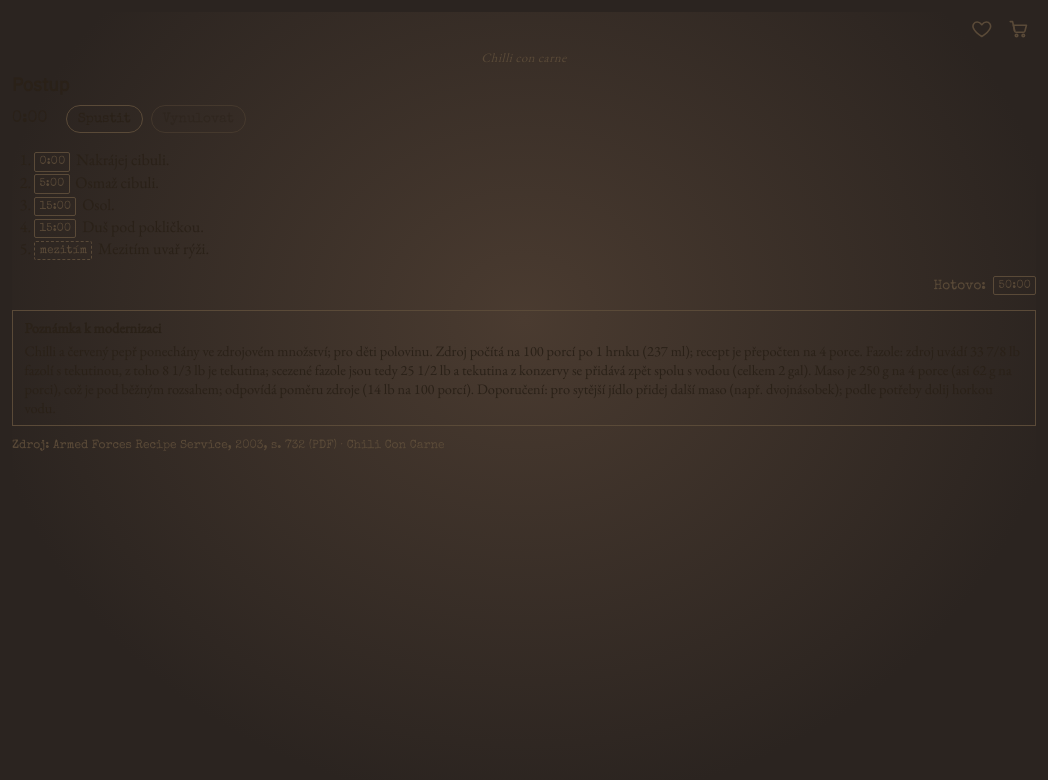
Stopky nad postupem (R3) › Pauza zastaví čas, Spustit pokračuje, Vynulovat vrátí 0:00 bez zvýraznění
Step 1. Click the button "Spustit" → [104, 119], box [66,105,142,134]
Wait 30000 ms
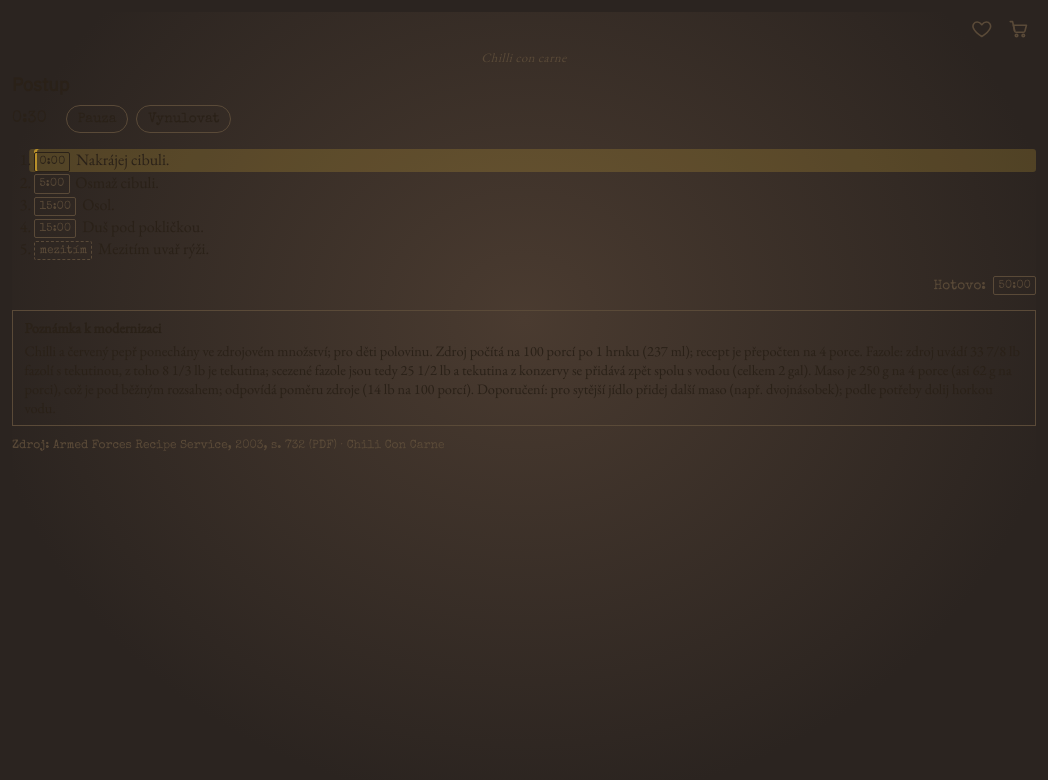
Step 2. Click the button "Pauza" → [97, 119], box [66,105,128,134]
Wait 60000 ms
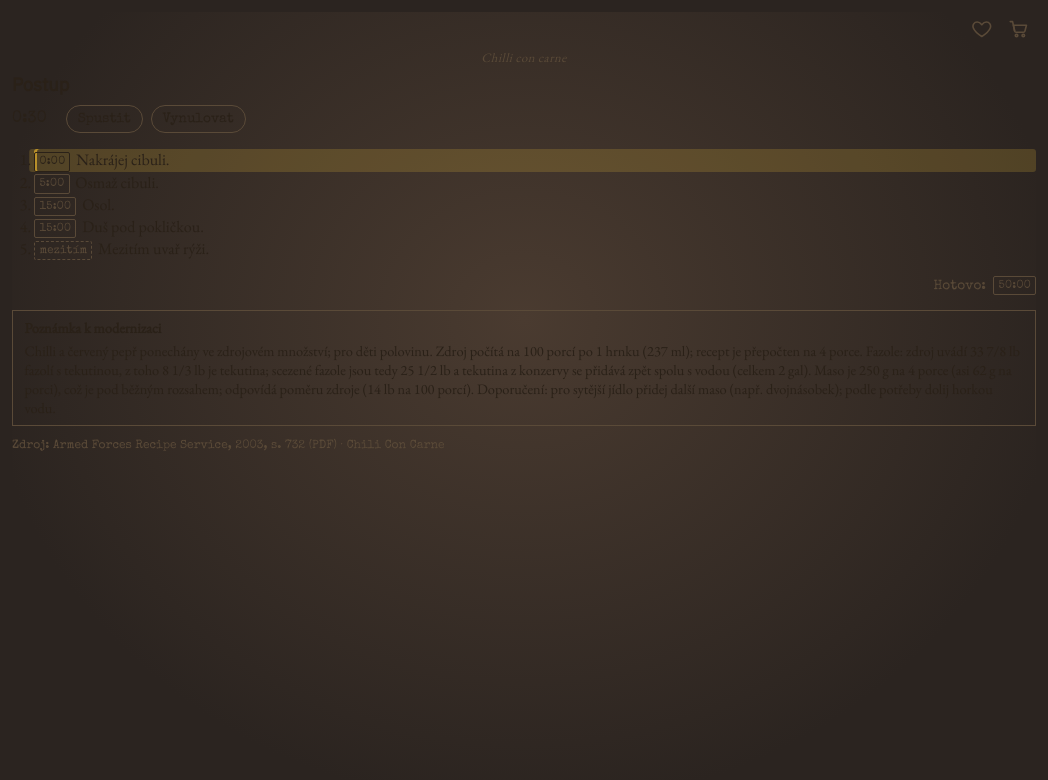
Step 3. Click the button "Spustit" → [104, 119], box [66,105,142,134]
Wait 30000 ms
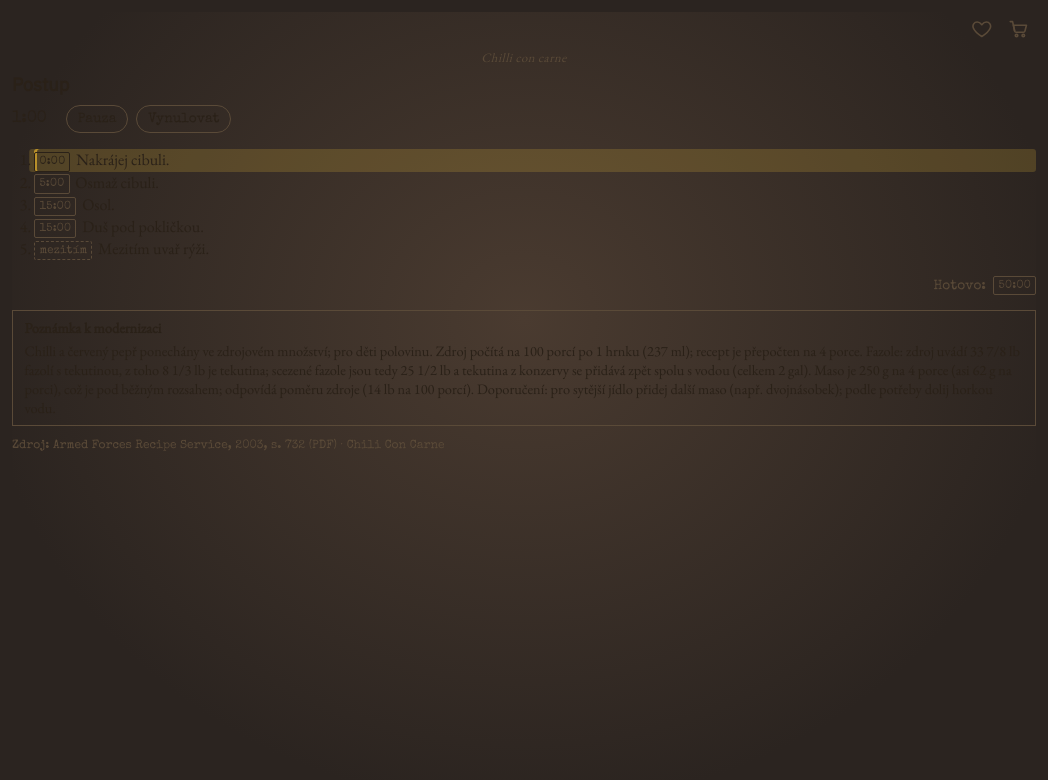
Step 4. Click the button "Vynulovat" → [184, 119], box [136,105,231,134]
Wait 5000 ms
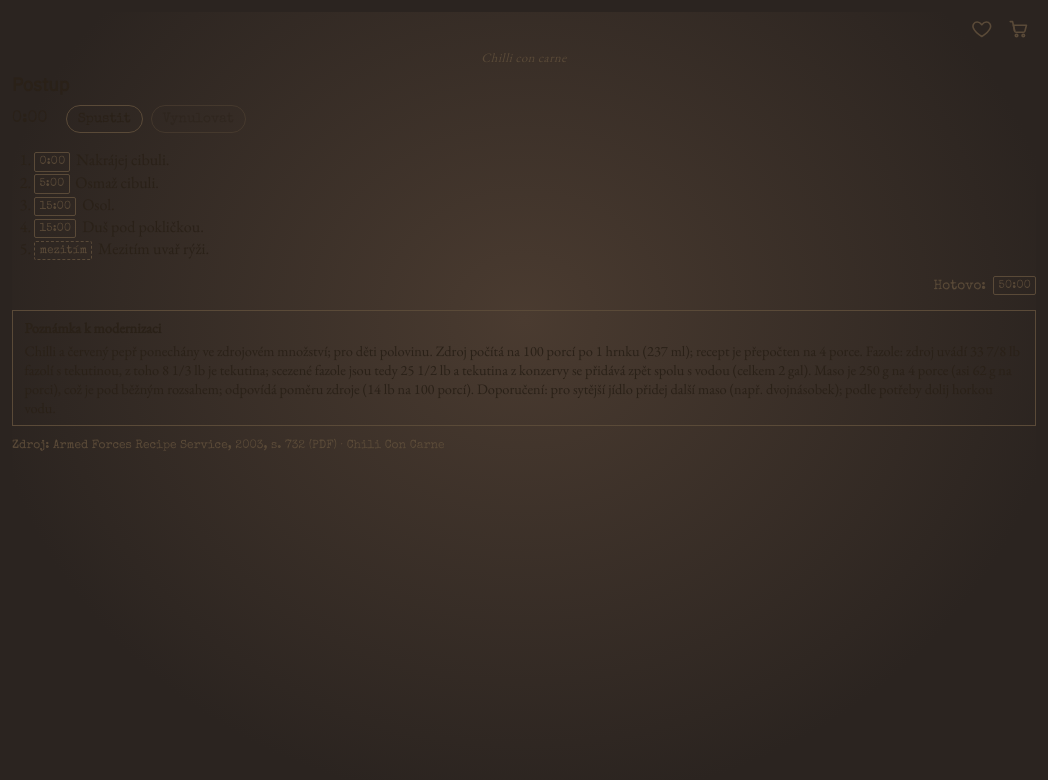
Expected: the button "Vynulovat" is disabled, [150,105,246,134]
Expected: the button "Spustit" is shown, [66,105,142,134]
